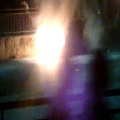fire: (34, 20, 65, 68)
